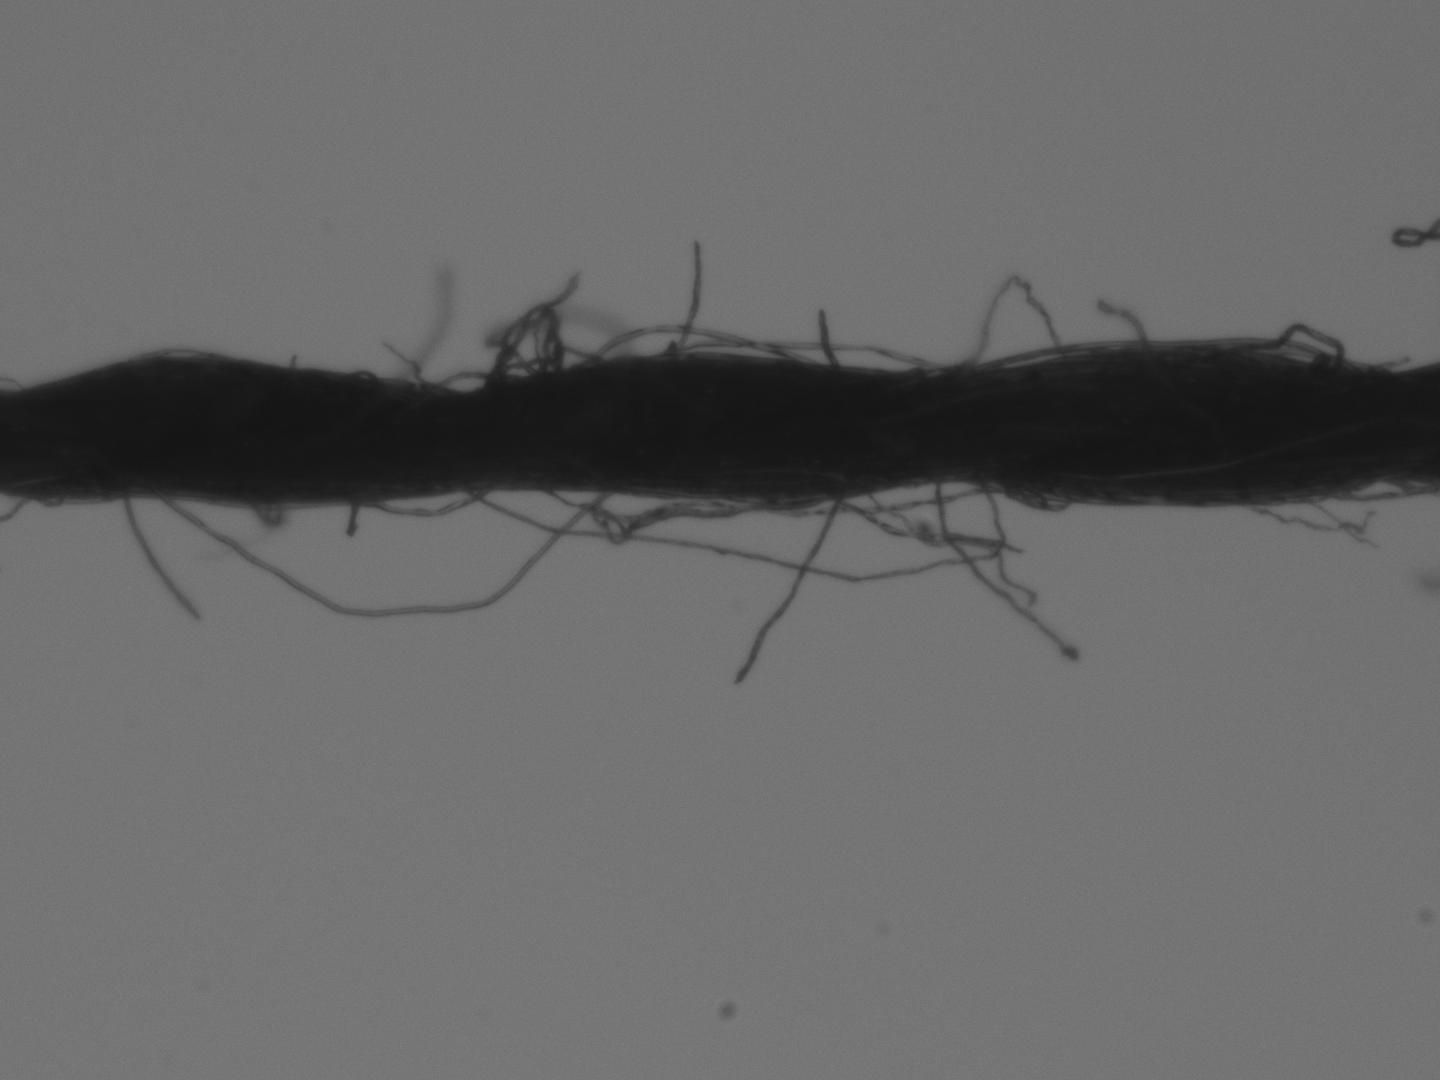loop_fiber: (154, 488, 602, 622), (549, 486, 828, 542), (830, 482, 1005, 542), (955, 279, 1071, 369), (588, 321, 799, 368), (654, 340, 943, 370), (486, 306, 566, 394), (1218, 320, 1341, 365), (355, 491, 485, 521), (1335, 476, 1433, 505), (425, 369, 517, 394), (1001, 484, 1067, 513)
protruding_fiber: (734, 499, 847, 687), (118, 491, 202, 625), (672, 239, 703, 357), (1099, 298, 1144, 338), (815, 307, 836, 364), (345, 501, 359, 539)
